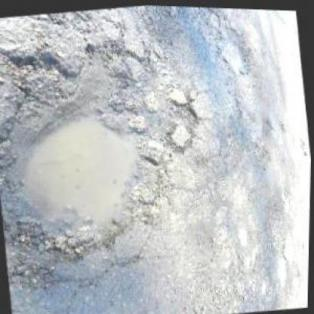Hueco: (0, 33, 187, 276), (168, 93, 203, 132)
